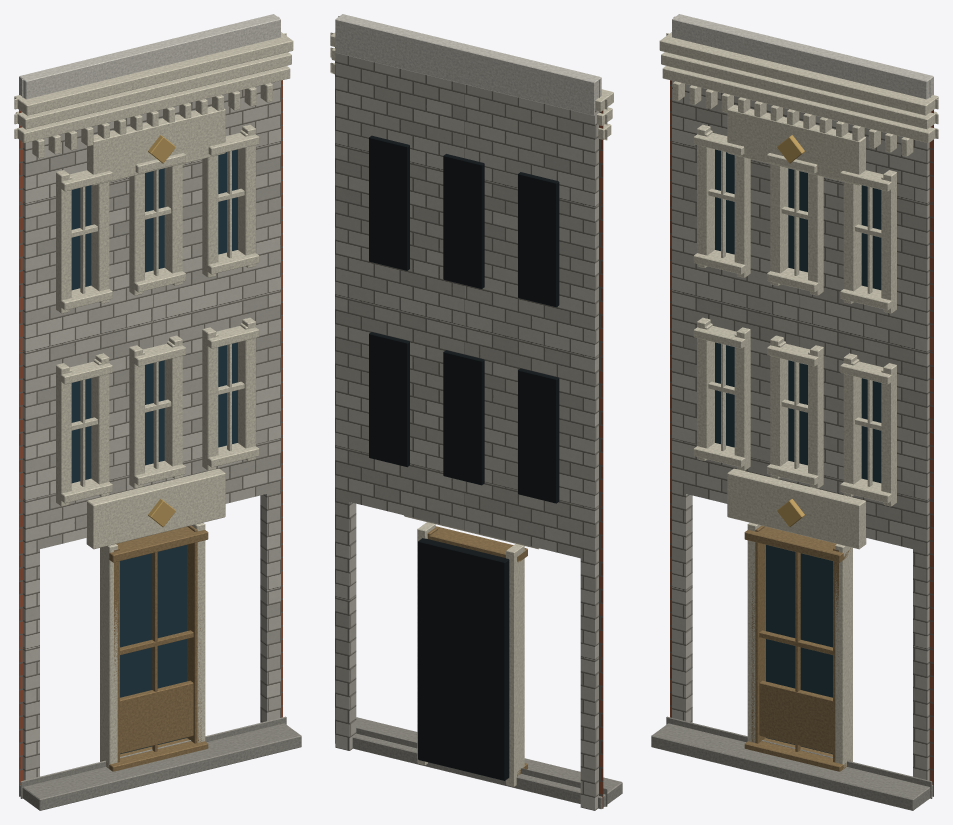
Rendered from OFFC19_lod1.glb.
The picture shows the model from 3 angles, left to right: view 1: azimuth 30°, elevation 25°; view 2: azimuth 150°, elevation 25°; view 3: azimuth 330°, elevation 25°; orthographic projection.
Parts seen in each view (by area): view 1: OFFC19_FRONT_LOD1; view 2: OFFC19_FRONT_LOD1; view 3: OFFC19_FRONT_LOD1.
Part boxes in pixels (x1,y1,x2,y2): OFFC19_FRONT_LOD1: (14, 14, 301, 810); OFFC19_FRONT_LOD1: (330, 14, 622, 810); OFFC19_FRONT_LOD1: (651, 14, 938, 810).
Size of the model in its own units: 3.84 by 9.66 by 0.68.
10 materials, 7 textured.
